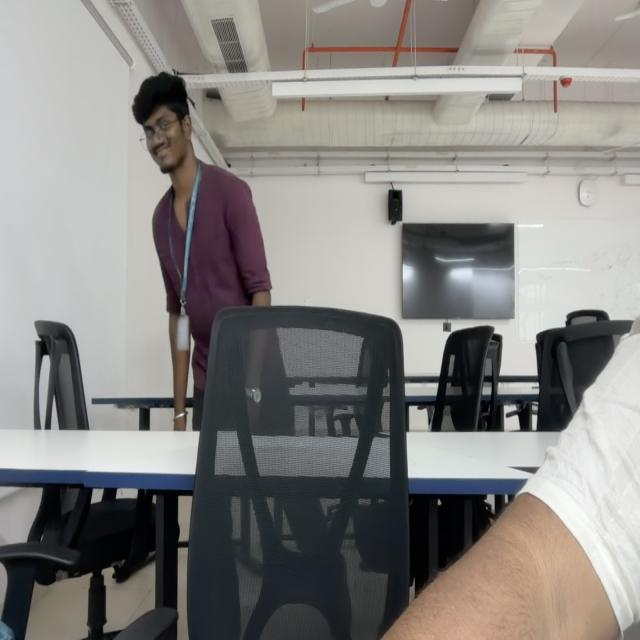ravindra: (132, 72, 193, 175)
